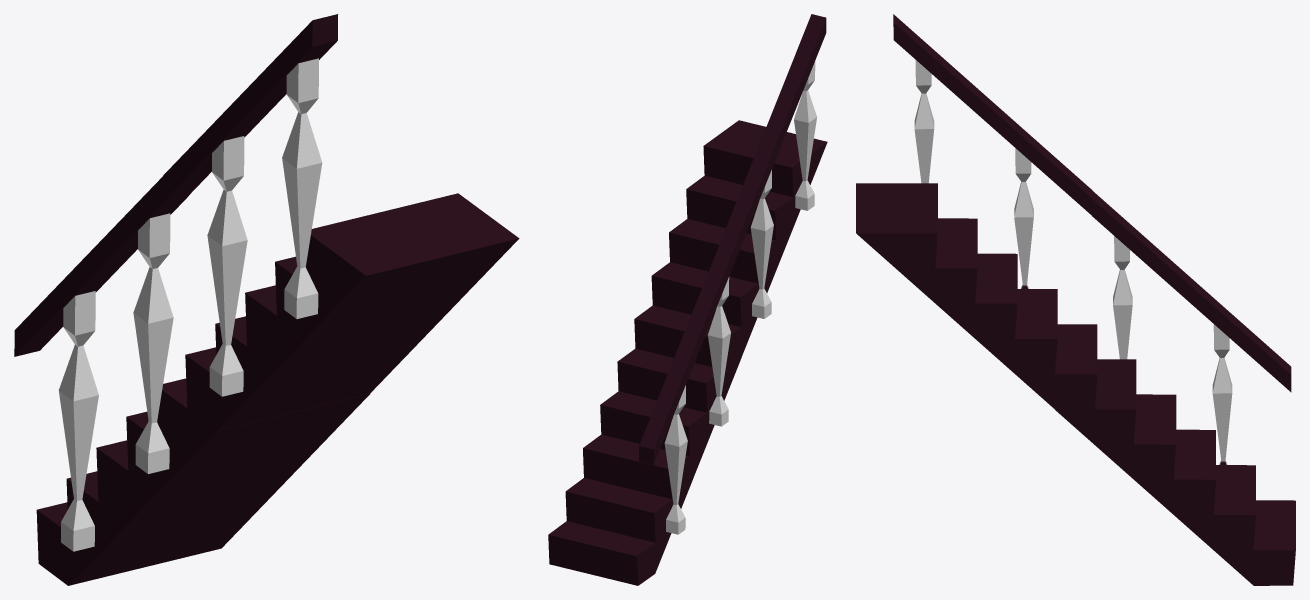
Rendered from Bib_Treppe.fbx.
The picture shows the model from 3 angles, left to right: view 1: azimuth 30°, elevation 25°; view 2: azimuth 150°, elevation 25°; view 3: azimuth 270°, elevation 25°; orthographic projection. The views are drawn at different scales.
Visible parts, largest first — view 1: Stairs_fence_Cube.002; view 2: Stairs_fence_Cube.002; view 3: Stairs_fence_Cube.002.
Boxes of the visible parts, left/top/right/bottom form: Stairs_fence_Cube.002: left=14, top=14, right=519, bottom=585; Stairs_fence_Cube.002: left=548, top=14, right=827, bottom=585; Stairs_fence_Cube.002: left=856, top=14, right=1295, bottom=585.
Size of the model in its own units: 70 by 288 by 223.
